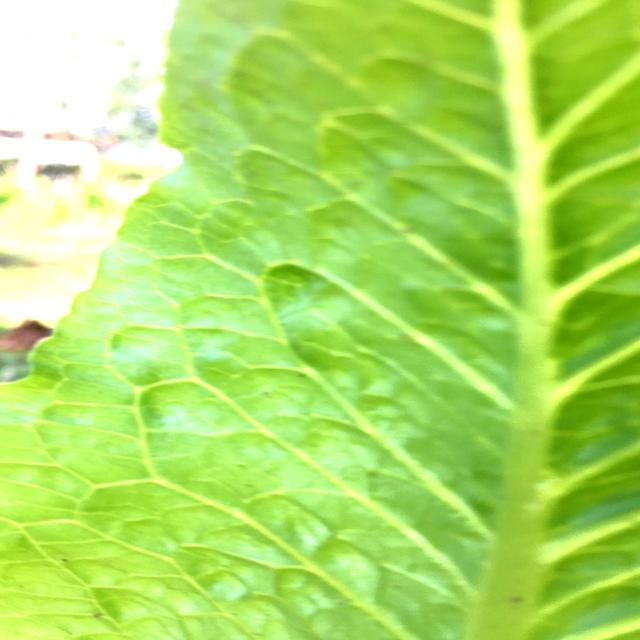Healthy Lettuce: (5, 2, 635, 636)
